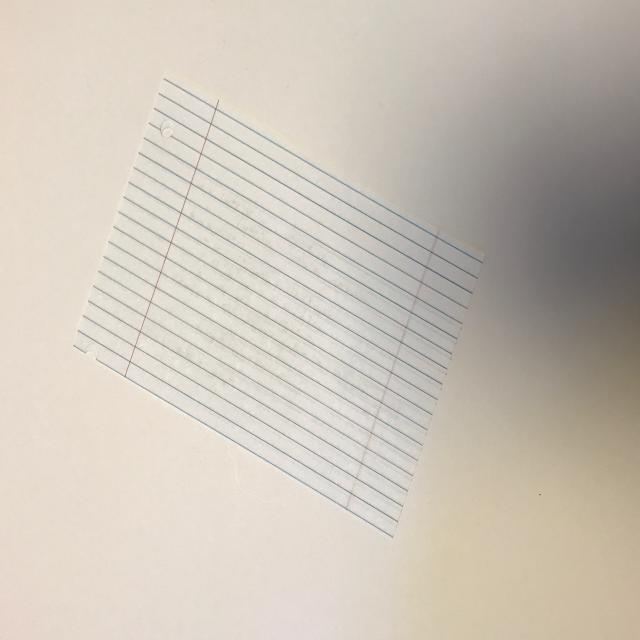paper: (63, 49, 492, 571)
